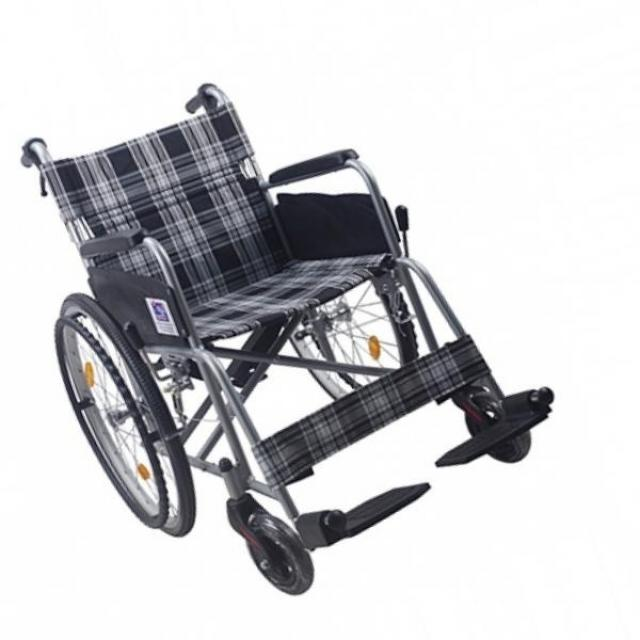wheelchair: (0, 71, 638, 602), (0, 75, 640, 600)
